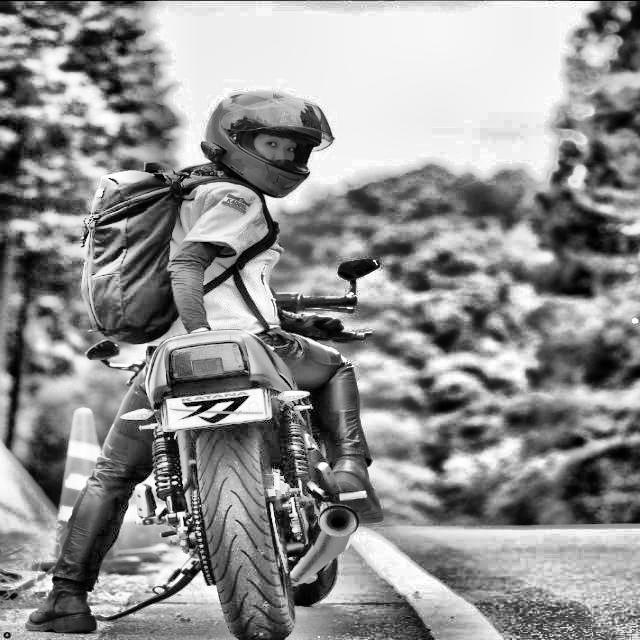Helmet: (195, 85, 338, 202)
